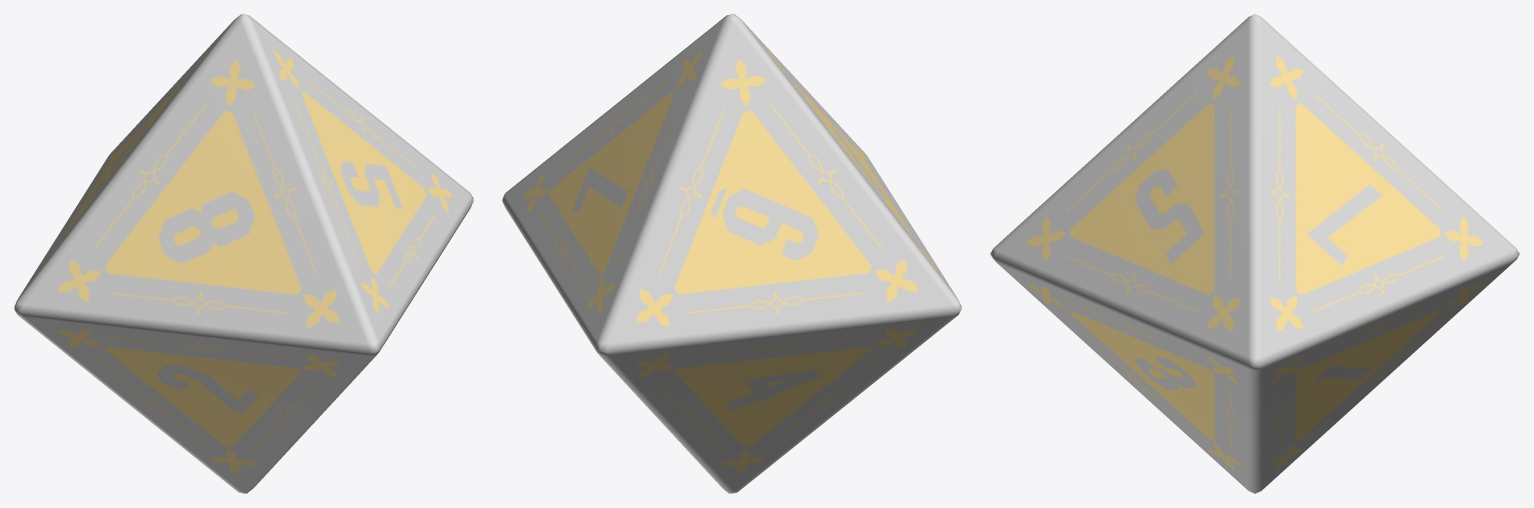
The model's file is dicemodel_d8.gltf.
3 views of the same model, side by side, from view 1: azimuth 30°, elevation 25°; view 2: azimuth 150°, elevation 25°; view 3: azimuth 270°, elevation 25° (orthographic).
Parts seen in each view (by area): view 1: dicemodel_d8; view 2: dicemodel_d8; view 3: dicemodel_d8.
Part boxes in pixels (box(x1,y1,x2,y2)): dicemodel_d8: box(14, 14, 473, 493); dicemodel_d8: box(502, 14, 961, 493); dicemodel_d8: box(990, 14, 1519, 493).
Size of the model in its own units: 191 by 191 by 191.
1 material, 1 textured.
